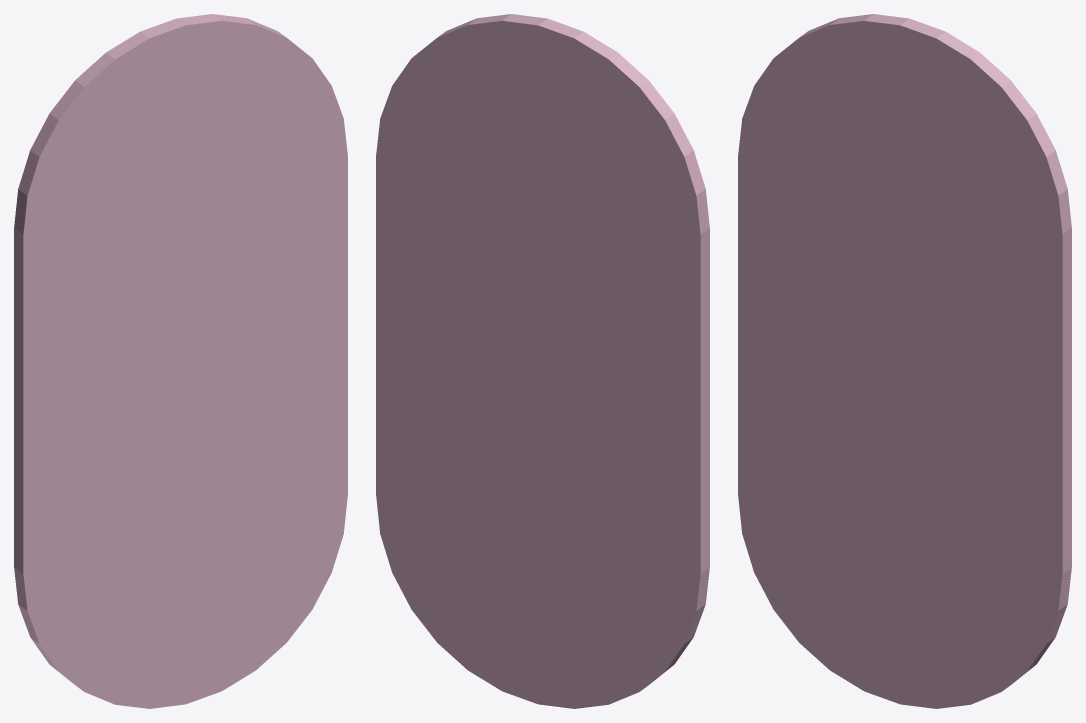
File: Fuel_tank_base.glb
3 renders of one model, left to right at view 1: azimuth 30°, elevation 25°; view 2: azimuth 150°, elevation 25°; view 3: azimuth 330°, elevation 25°, orthographic.
Visible parts, largest first — view 1: Node1; view 2: Node1; view 3: Node1.
Part boxes in pixels (left/top/right/bottom): Node1: left=14, top=14, right=347, bottom=708; Node1: left=376, top=14, right=709, bottom=708; Node1: left=738, top=14, right=1071, bottom=708.
Bounding box in the file's own units: 25.4 × 50.8 × 1.27.
